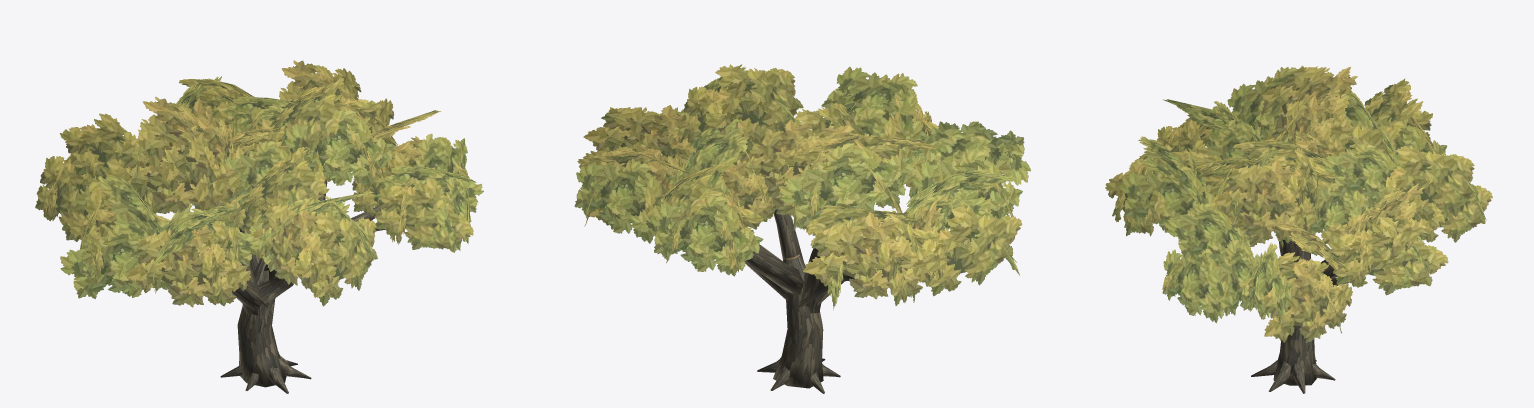
Rendered from nbt_broad_oak.glb.
The picture shows the model from 3 angles, left to right: view 1: azimuth 30°, elevation 25°; view 2: azimuth 150°, elevation 25°; view 3: azimuth 270°, elevation 25°; orthographic projection. The views are drawn at different scales.
Parts seen in each view (by area): view 1: Broad_Oak_Foliage, Broad_Oak_Wood; view 2: Broad_Oak_Foliage, Broad_Oak_Wood; view 3: Broad_Oak_Foliage, Broad_Oak_Wood.
Part boxes in pixels (x1,y1,x2,y2): Broad_Oak_Foliage: (35, 60, 483, 307); Broad_Oak_Wood: (220, 180, 385, 393); Broad_Oak_Foliage: (574, 64, 1030, 310); Broad_Oak_Wood: (745, 209, 855, 393); Broad_Oak_Foliage: (1105, 65, 1492, 342); Broad_Oak_Wood: (1251, 239, 1349, 393).
Size of the model in its own units: 11.49 by 7.4 by 10.01.
2 materials, 2 textured.
